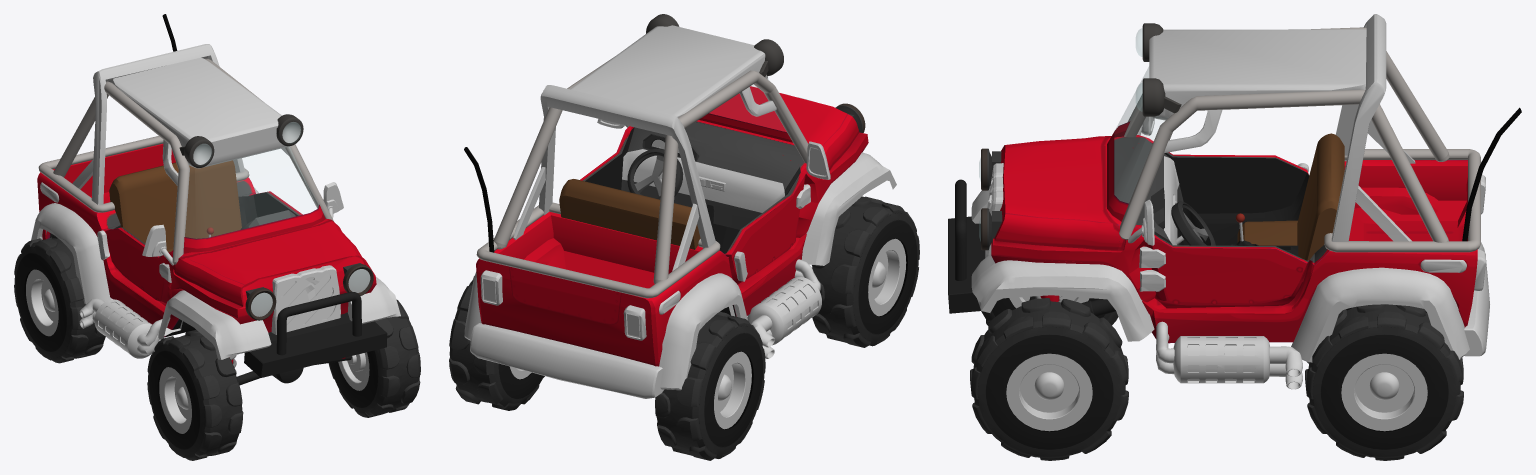
The model's file is Hill Climber Mk. 2 HCR2 3D model.fbx.
The picture shows the model from 3 angles, left to right: view 1: azimuth 30°, elevation 25°; view 2: azimuth 150°, elevation 25°; view 3: azimuth 270°, elevation 25°; orthographic projection. The views are drawn at different scales.
Visible parts, largest first — view 1: HCR2_HC2_Body, HCR2_HC2_FrontGlass, HCR2_HC2_Roof, HCR2_HC2_FR_Wheel, HCR2_HC2_Details, HCR2_HC2_Seat, HCR2_HC2_RR_Wheel, HCR2_HC2_Mask, HCR2_HC2_FL_Wheel, HCR2_HC2_Chassis, HCR2_HC2_Cage, HCR2_HC2_Cage2.001 (+9 smaller); view 2: HCR2_HC2_Body, HCR2_HC2_FR_Wheel, HCR2_HC2_RR_Wheel, HCR2_HC2_Roof, HCR2_HC2_Details, HCR2_HC2_Rear_Bumper, HCR2_HC2_Cage, HCR2_HC2_Seat, HCR2_HC2_RL_Wheel, HCR2_HC2_Cage2.001, HCR2_HC2_Mask, HCR2_HC2_Exhausts (+9 smaller); view 3: HCR2_HC2_Body, HCR2_HC2_FL_Wheel, HCR2_HC2_RL_Wheel, HCR2_HC2_Details, HCR2_HC2_Roof, HCR2_HC2_Mask, HCR2_HC2_Cage2.002, HCR2_HC2_Exhausts.001, HCR2_HC2_Cage, HCR2_HC2_Seat, HCR2_HC2_FrontGlass, HCR2_HC2_Cage2 (+13 smaller).
Boxes of the visible parts, x1=… form: HCR2_HC2_Body: x1=37, y1=144, x2=376, y2=337; HCR2_HC2_FrontGlass: x1=183, y1=146, x2=325, y2=253; HCR2_HC2_Roof: x1=111, y1=57, x2=286, y2=168; HCR2_HC2_FR_Wheel: x1=147, y1=329, x2=243, y2=460; HCR2_HC2_Details: x1=31, y1=187, x2=400, y2=359; HCR2_HC2_Seat: x1=109, y1=160, x2=241, y2=252; HCR2_HC2_RR_Wheel: x1=14, y1=234, x2=105, y2=363; HCR2_HC2_Mask: x1=176, y1=220, x2=362, y2=306; HCR2_HC2_FL_Wheel: x1=328, y1=299, x2=420, y2=417; HCR2_HC2_Chassis: x1=50, y1=233, x2=387, y2=377; HCR2_HC2_Cage: x1=72, y1=44, x2=244, y2=204; HCR2_HC2_Cage2.001: x1=53, y1=81, x2=189, y2=264; HCR2_HC2_Body: x1=476, y1=120, x2=868, y2=366; HCR2_HC2_FR_Wheel: x1=812, y1=196, x2=919, y2=347; HCR2_HC2_RR_Wheel: x1=655, y1=311, x2=765, y2=460; HCR2_HC2_Roof: x1=570, y1=25, x2=767, y2=117; HCR2_HC2_Details: x1=464, y1=152, x2=896, y2=390; HCR2_HC2_Rear_Bumper: x1=470, y1=323, x2=663, y2=398; HCR2_HC2_Cage: x1=513, y1=85, x2=715, y2=271; HCR2_HC2_Seat: x1=559, y1=179, x2=700, y2=249; HCR2_HC2_RL_Wheel: x1=449, y1=276, x2=544, y2=410; HCR2_HC2_Cage2.001: x1=653, y1=70, x2=808, y2=280; HCR2_HC2_Mask: x1=709, y1=86, x2=859, y2=170; HCR2_HC2_Exhausts: x1=747, y1=259, x2=821, y2=358; HCR2_HC2_Body: x1=991, y1=135, x2=1477, y2=343; HCR2_HC2_FL_Wheel: x1=970, y1=298, x2=1128, y2=460; HCR2_HC2_RL_Wheel: x1=1305, y1=304, x2=1463, y2=460; HCR2_HC2_Details: x1=971, y1=186, x2=1469, y2=362; HCR2_HC2_Roof: x1=1149, y1=29, x2=1366, y2=120; HCR2_HC2_Mask: x1=995, y1=136, x2=1119, y2=250; HCR2_HC2_Cage2.002: x1=1119, y1=89, x2=1448, y2=242; HCR2_HC2_Exhausts.001: x1=1156, y1=321, x2=1302, y2=389; HCR2_HC2_Cage: x1=1331, y1=14, x2=1415, y2=241; HCR2_HC2_Seat: x1=1237, y1=133, x2=1344, y2=260; HCR2_HC2_FrontGlass: x1=1107, y1=67, x2=1166, y2=221; HCR2_HC2_Cage2: x1=1324, y1=149, x2=1480, y2=252.
Size of the model in its own units: 205 by 250 by 371.
